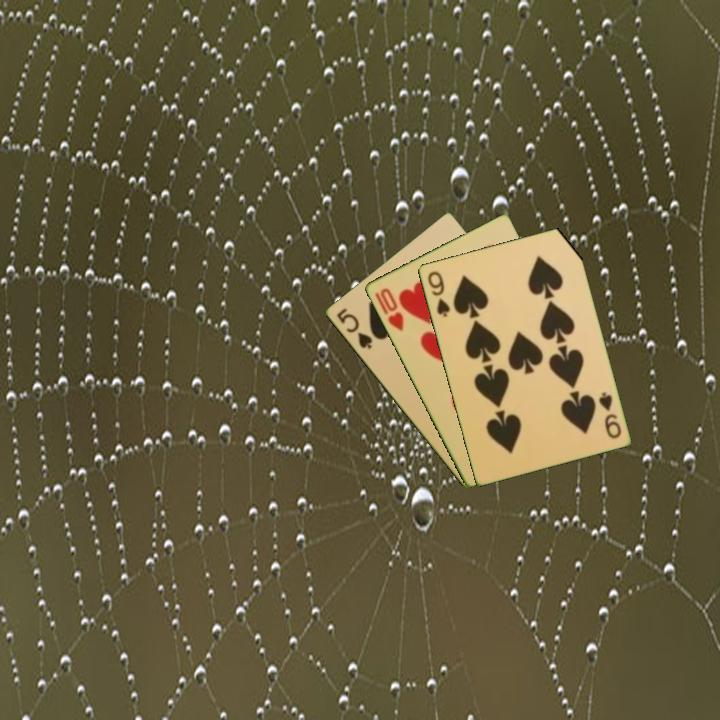10h: (376, 284, 406, 334)
5s: (333, 305, 375, 352)
9s: (595, 388, 624, 441), (424, 268, 453, 320)
